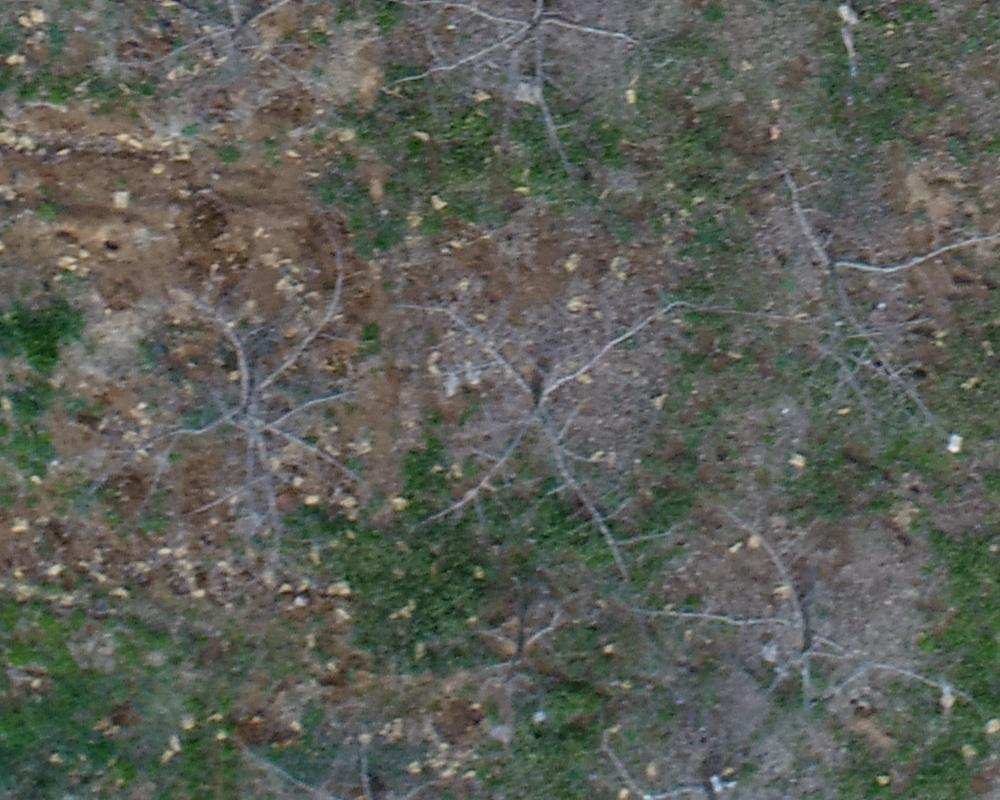apple: (391, 258, 717, 588), (110, 234, 372, 570), (717, 140, 990, 434), (658, 493, 960, 735), (382, 10, 651, 158), (99, 10, 369, 110)
